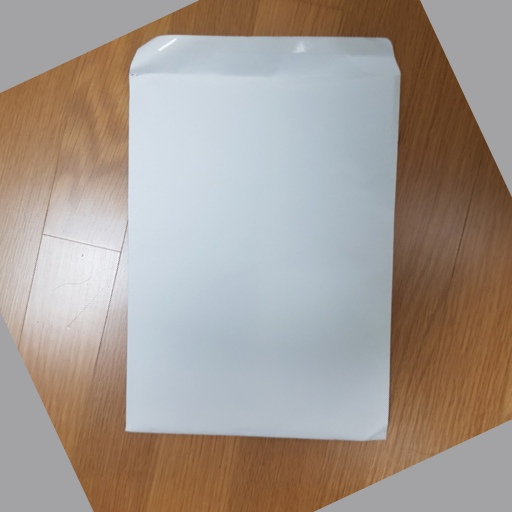Paper_2: (113, 33, 412, 446)
